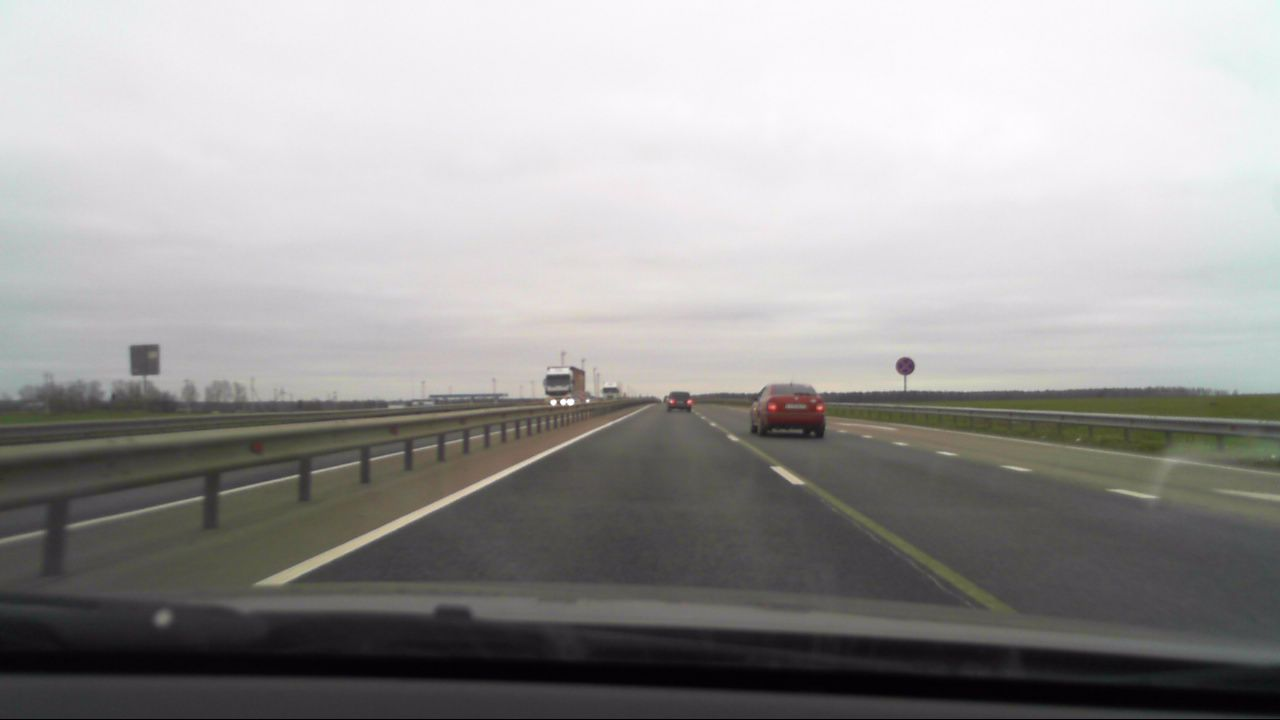No Parking: (893, 354, 918, 378)
